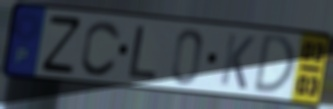0: (170, 27, 205, 87)
C: (79, 18, 123, 79)
D: (250, 32, 297, 95)
K: (217, 31, 257, 92)
L: (126, 23, 160, 81)
Z: (40, 13, 84, 75)
